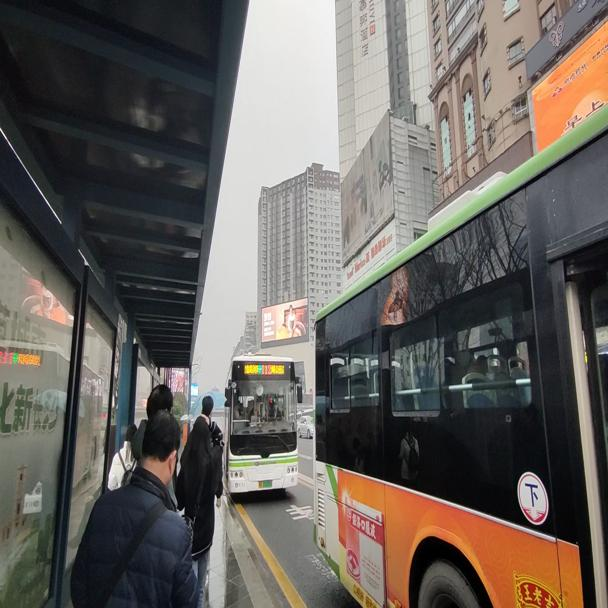bus: (310, 102, 607, 606), (221, 351, 303, 499)
screen: (261, 363, 271, 374)
